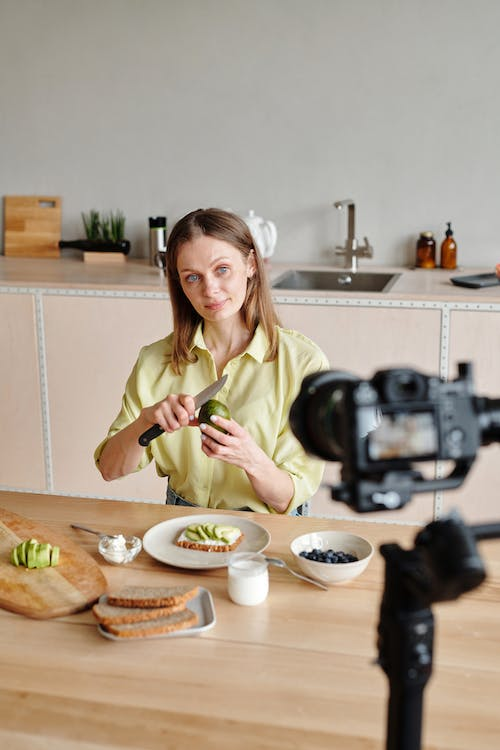knife: (191, 371, 231, 411)
